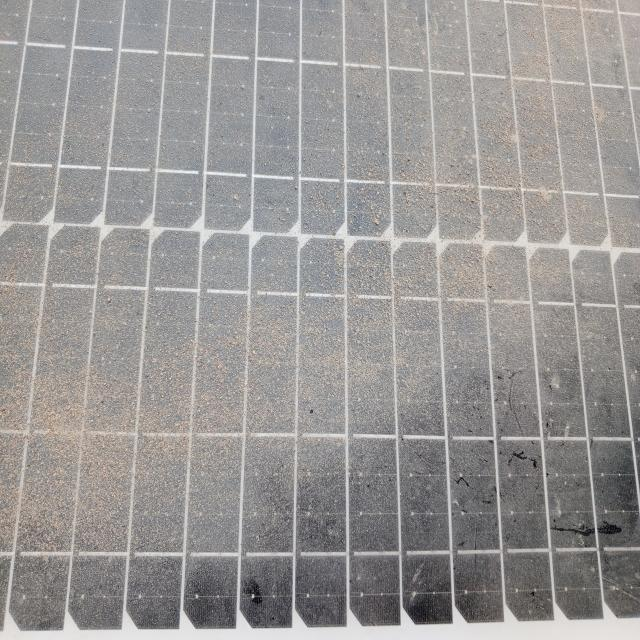Anomaly Solar Panel: (4, 5, 639, 628)
Surface Contaminant: (19, 25, 635, 620)
